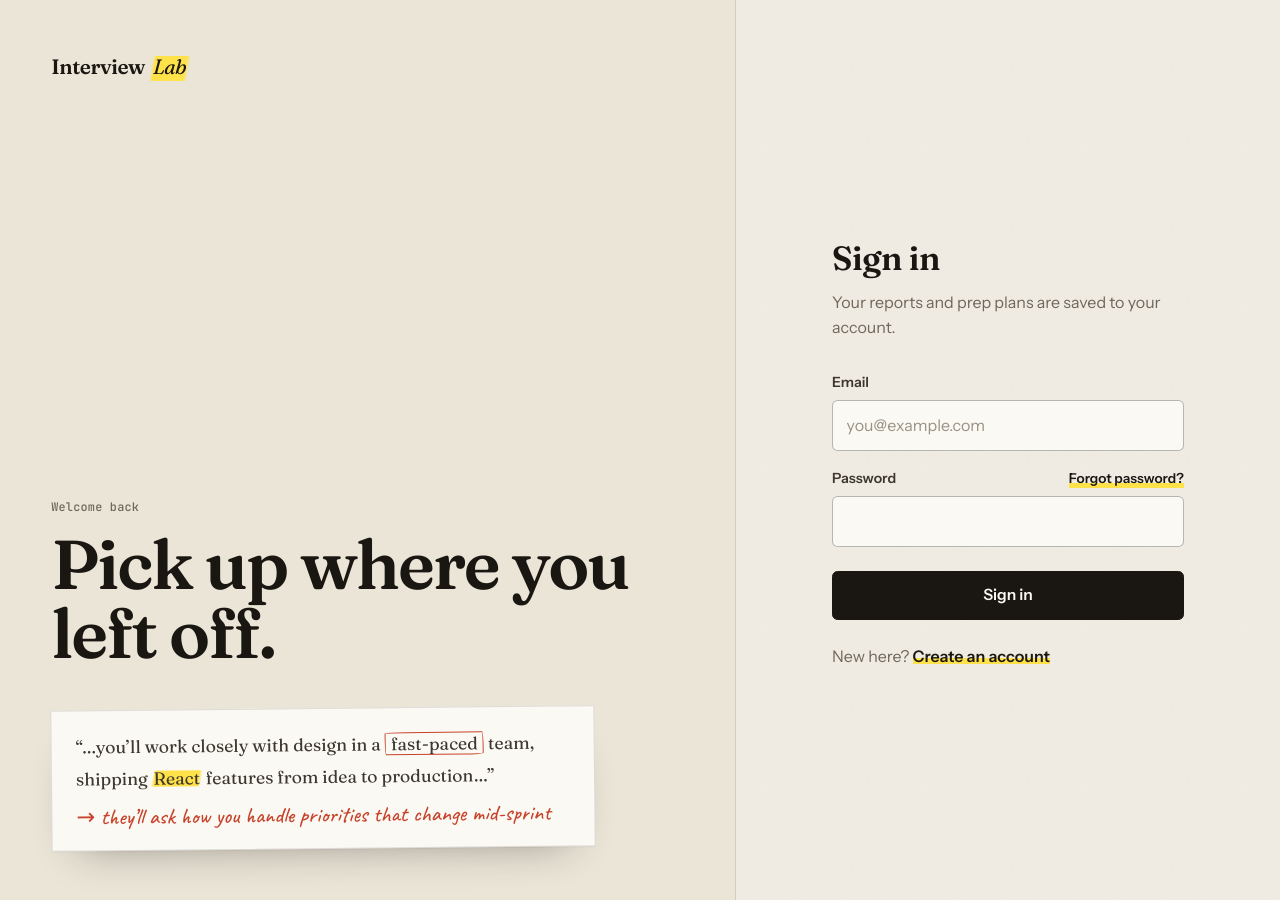
Login page › shows the server's message and keeps the typed email
Type "ana@example.test" into the field labelled "Email". click: [1008, 425]
box: [832,400,1184,451]
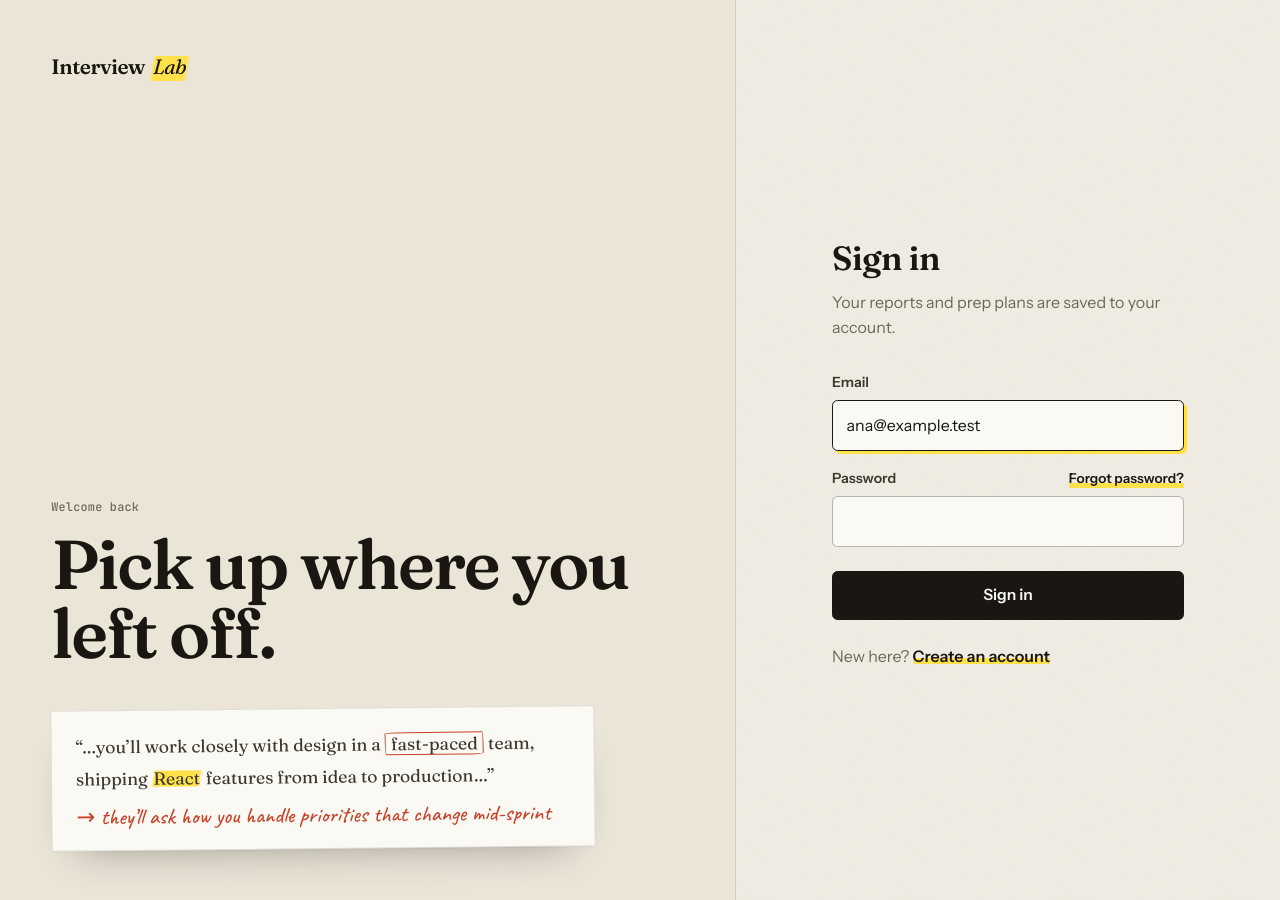
Type "wrong" into the password field labelled "Password". click: [1008, 522]
box: [832,496,1184,547]
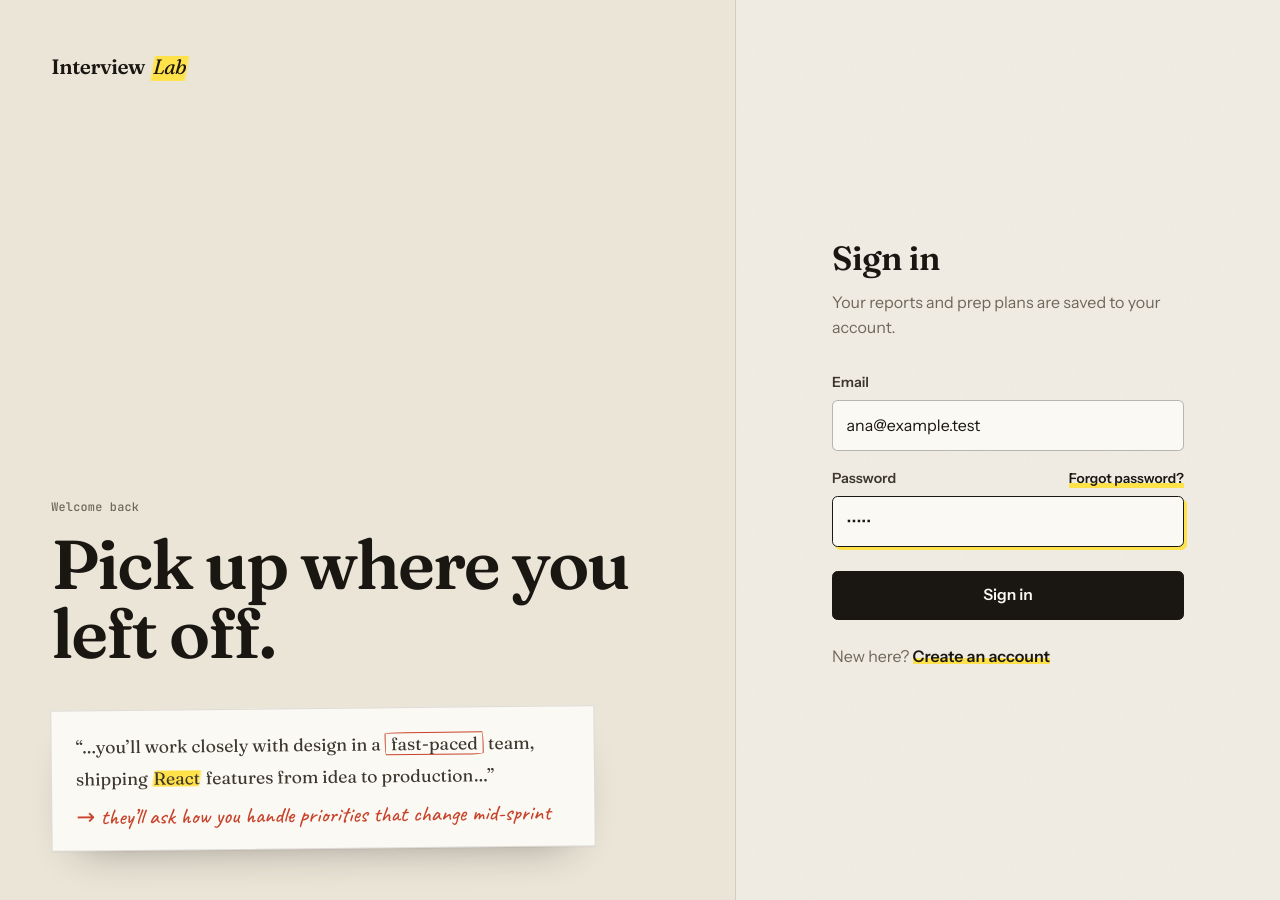
Click the button "Sign in". click: [1008, 595]
box: [832,571,1184,620]
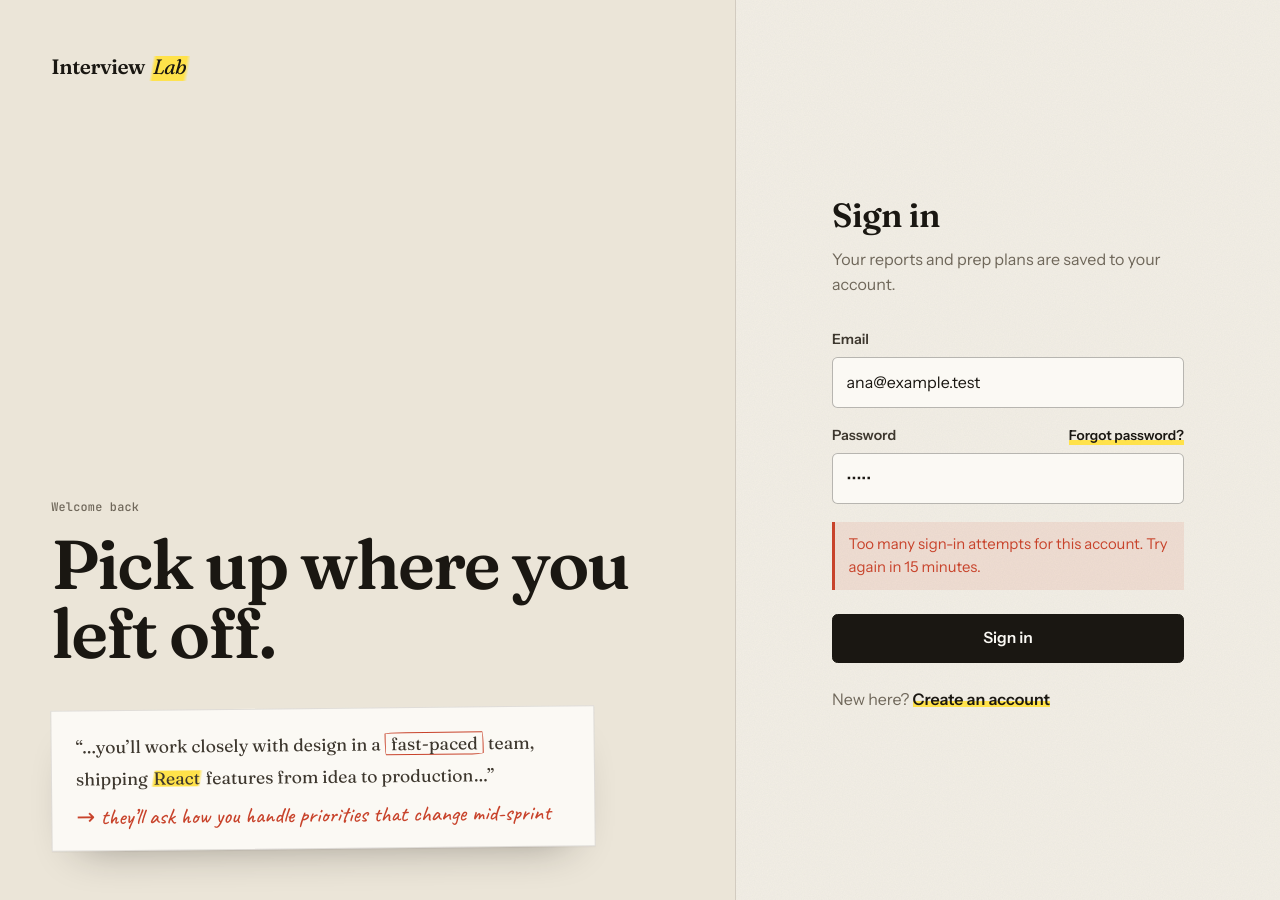
Expected: the field labelled "Email" holds "ana@example.test", [832,357,1184,408]
Expected: the message shows "Try again in 15 minutes.", [849,535,1168,576]
